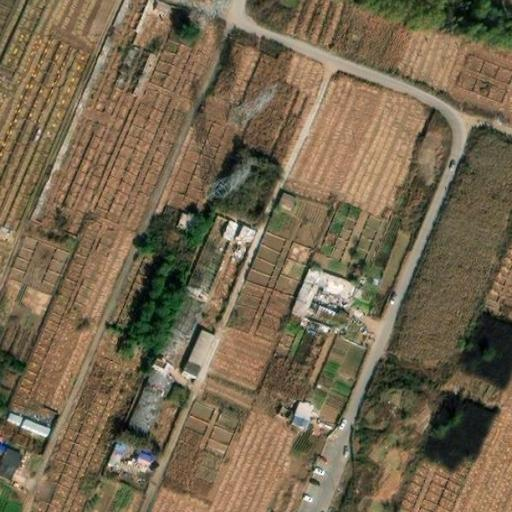building: (287, 265, 352, 332), (126, 374, 168, 439), (159, 286, 204, 341), (176, 328, 212, 378), (6, 410, 55, 439), (219, 219, 258, 249), (288, 398, 316, 432), (104, 438, 128, 468), (131, 444, 157, 469), (170, 204, 193, 229), (273, 186, 296, 210)
